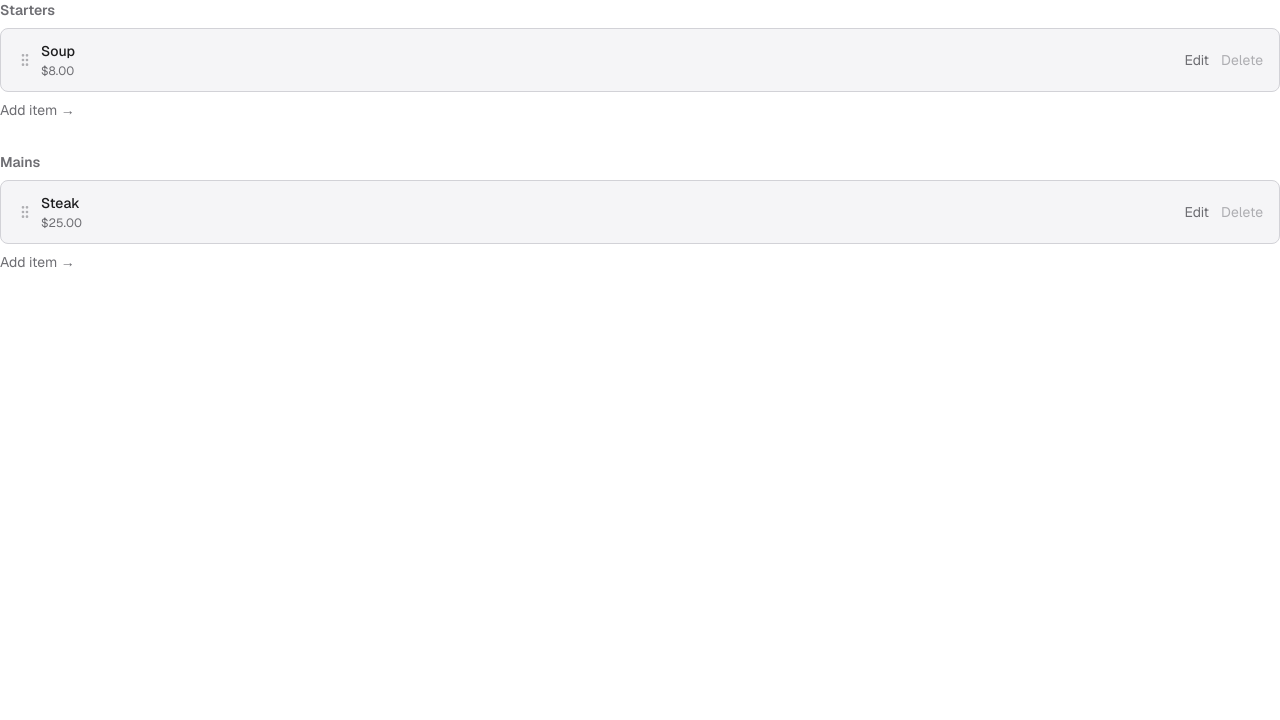
it: MenuItemList › removes item from list after confirmed delete
Click the button with aria-label "Delete Soup".
click(1242, 60)  # box [1221,50,1263,70]
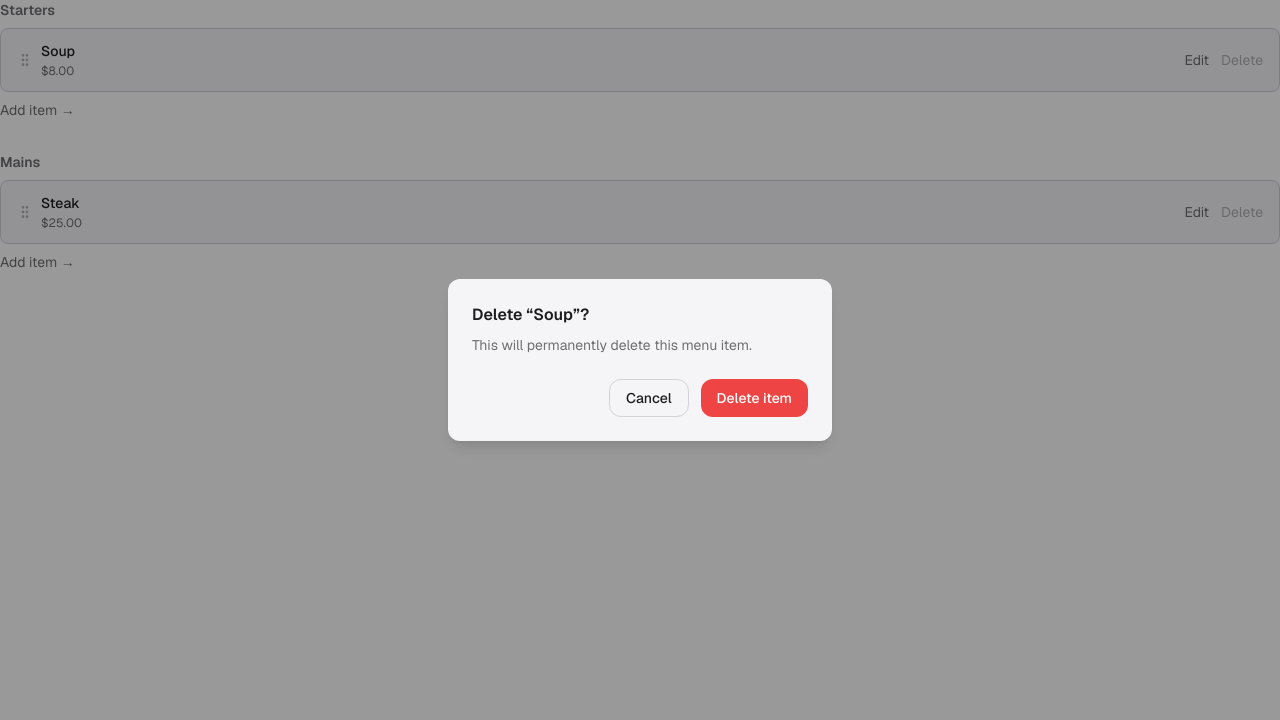
Click the button "Delete item".
click(754, 398)  # box [701,379,808,417]
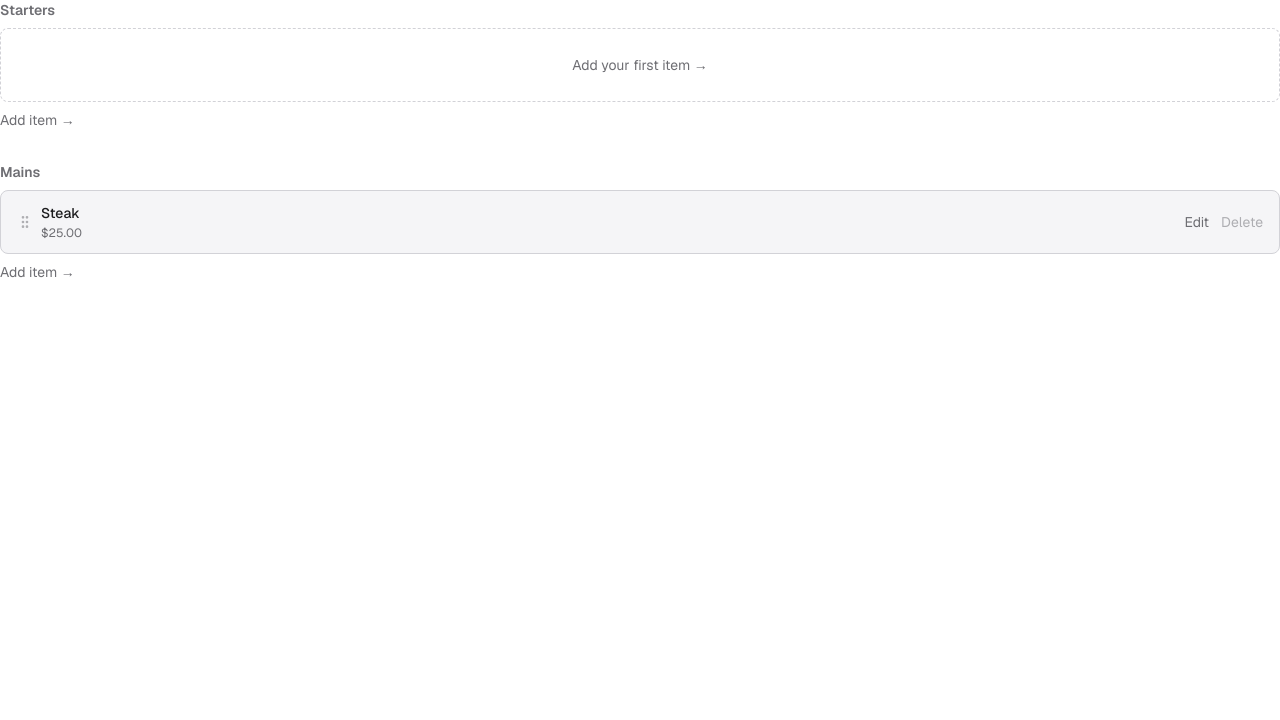
Now the text "Soup" is gone
